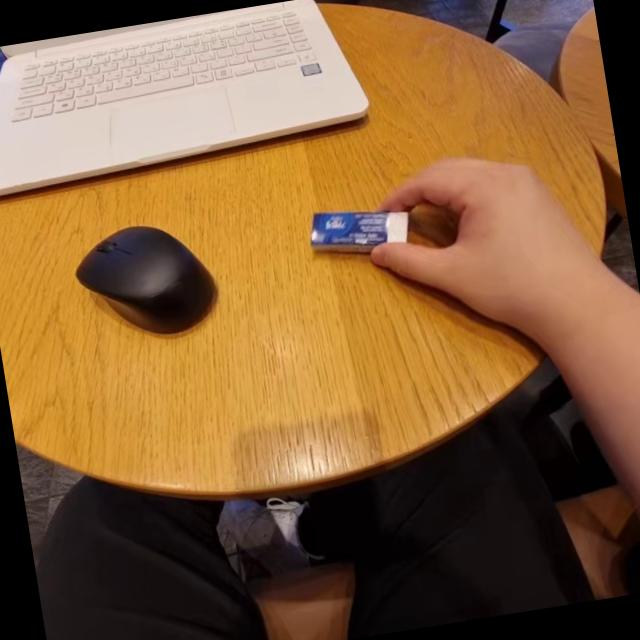eraser: (298, 186, 417, 272)
grab_eraser: (306, 141, 612, 341)
hand: (352, 128, 590, 328)
mouse: (72, 210, 226, 348)
